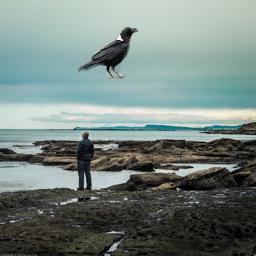Crow: (76, 25, 140, 80)
